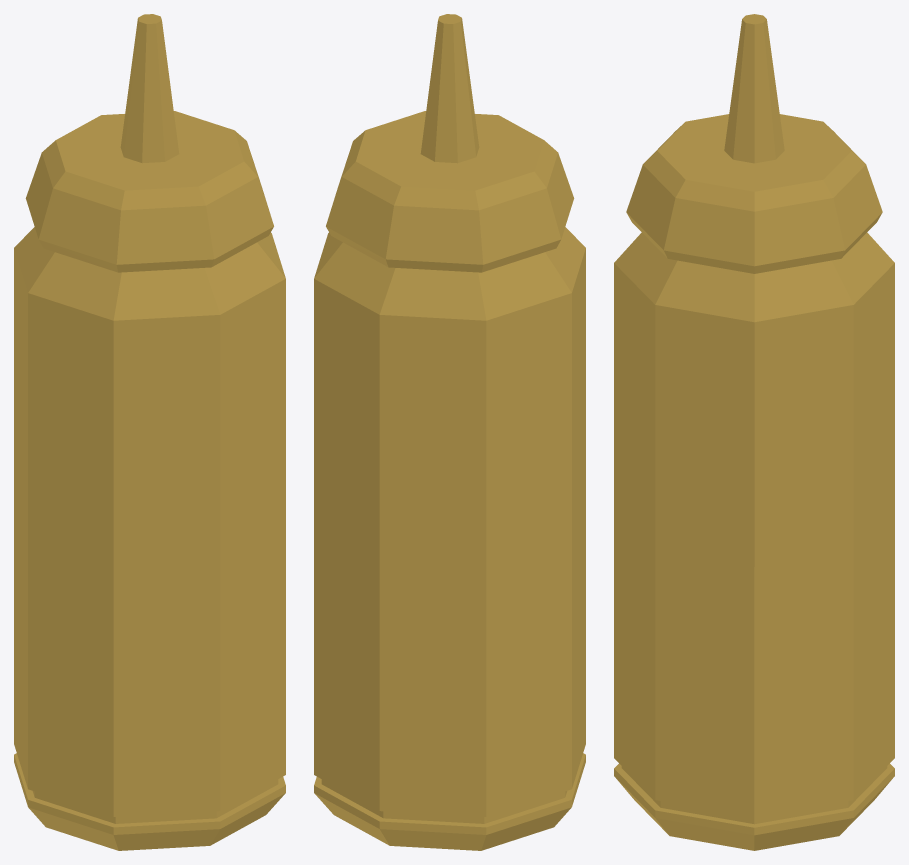
The model's file is MustardBottle.glb.
3 views of the same model, side by side, from view 1: azimuth 30°, elevation 25°; view 2: azimuth 150°, elevation 25°; view 3: azimuth 270°, elevation 25° (orthographic).
Parts seen in each view (by area): view 1: MustardBottle; view 2: MustardBottle; view 3: MustardBottle.
Boxes of the visible parts, x1=… form: MustardBottle: x1=14, y1=14, x2=285, y2=850; MustardBottle: x1=314, y1=14, x2=585, y2=850; MustardBottle: x1=614, y1=14, x2=894, y2=850.
Bounding box in the file's own units: 0.4996 × 1.53 × 0.4996.
